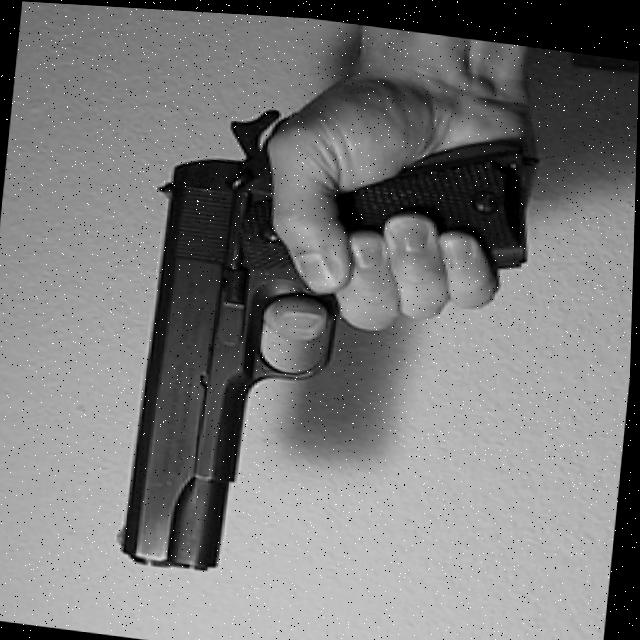pistol: (115, 90, 363, 586)
